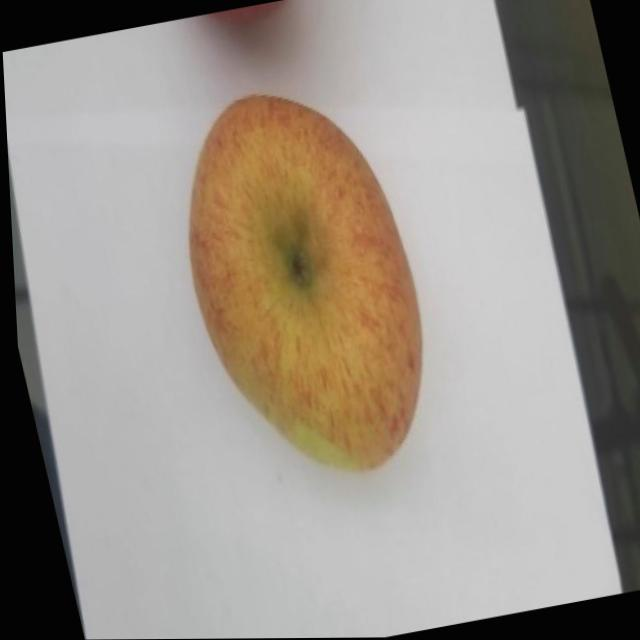Apple: (150, 73, 450, 497)
